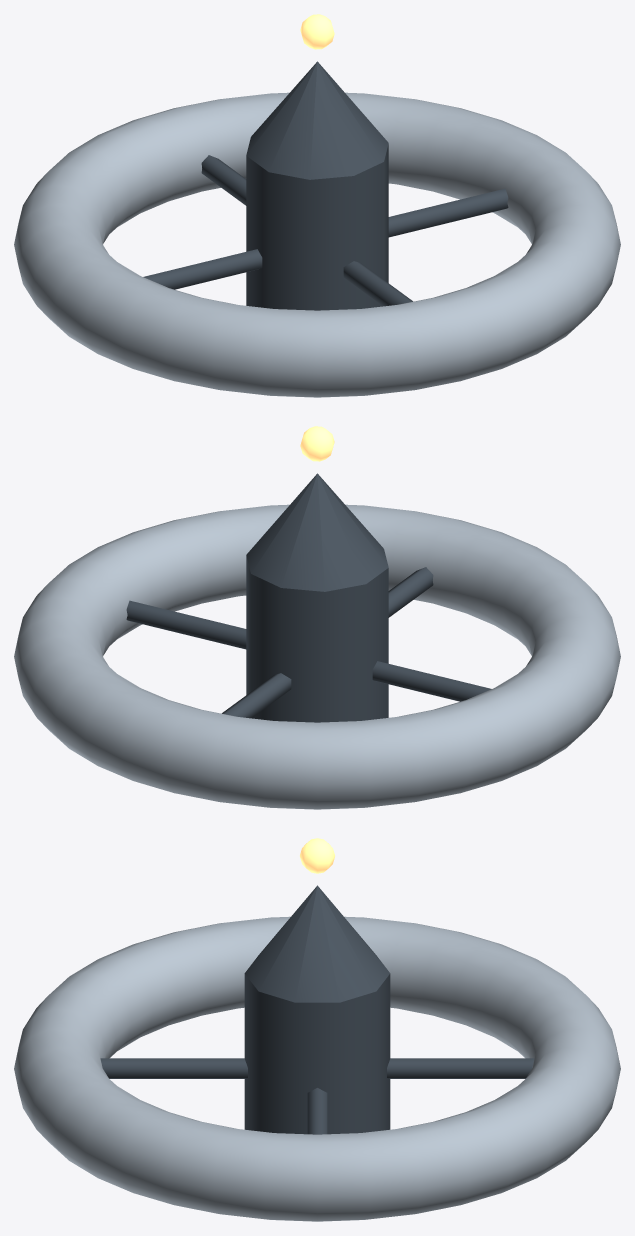
Rendered from mars-station.glb.
3 views of the same model, one above another, from view 1: azimuth 30°, elevation 25°; view 2: azimuth 150°, elevation 25°; view 3: azimuth 270°, elevation 25° (orthographic).
Visible parts, largest first — view 1: habitat-ring, docking-hub, hub-cap, spoke-1, spoke-3, spoke-4, spoke-2, beacon; view 2: habitat-ring, docking-hub, hub-cap, spoke-1, spoke-3, spoke-2, spoke-4, beacon; view 3: habitat-ring, docking-hub, hub-cap, spoke-2, spoke-4, beacon, spoke-1.
Boxes of the visible parts, x1,y1,x2,y2 form: habitat-ring: [14, 92, 620, 397]; docking-hub: [246, 144, 388, 310]; hub-cap: [246, 61, 388, 179]; spoke-1: [388, 188, 508, 237]; spoke-3: [143, 249, 262, 289]; spoke-4: [343, 261, 412, 306]; spoke-2: [201, 155, 246, 205]; beacon: [300, 14, 334, 49]; habitat-ring: [14, 504, 620, 809]; docking-hub: [246, 556, 388, 722]; hub-cap: [246, 473, 388, 591]; spoke-1: [126, 600, 246, 649]; spoke-3: [372, 661, 491, 701]; spoke-2: [222, 673, 291, 718]; spoke-4: [388, 567, 433, 617]; beacon: [300, 426, 334, 461]; habitat-ring: [14, 916, 620, 1221]; docking-hub: [244, 974, 390, 1134]; hub-cap: [244, 885, 390, 1002]; spoke-2: [387, 1058, 534, 1078]; spoke-4: [100, 1058, 247, 1078]; beacon: [300, 838, 334, 873]; spoke-1: [307, 1088, 327, 1134].
Bounding box in the file's own units: 6.38 × 3.76 × 6.38.
